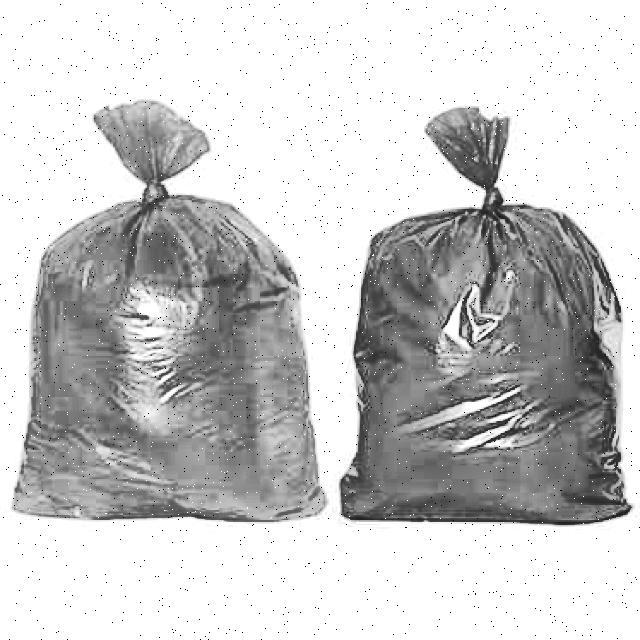Trashbag: (330, 100, 639, 544), (15, 108, 315, 533)
